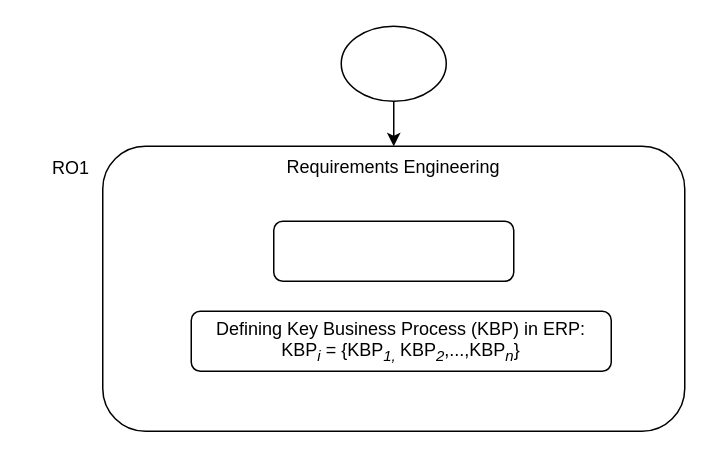
Image size: 711x458. Some labels were removed from this diagram. Here are the shapes that lost their labels. From the top down, the centre of each, then its label:
point 393,63: Start
point 393,250: Data gathering
